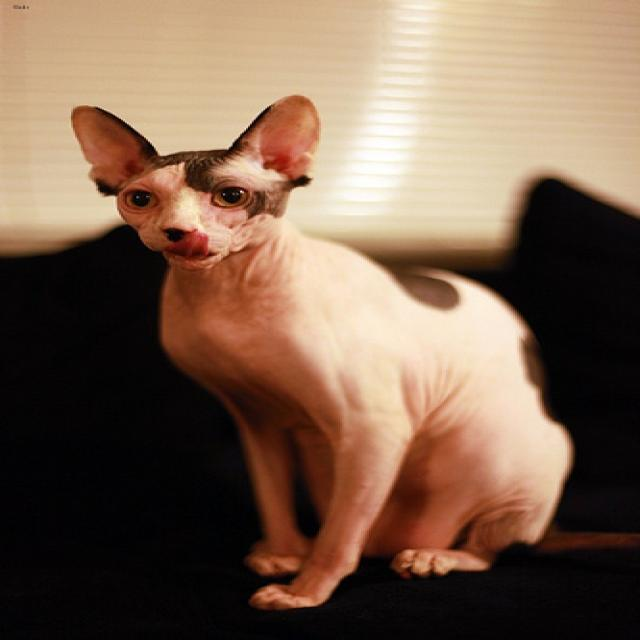Sphynx: (67, 93, 317, 269)
